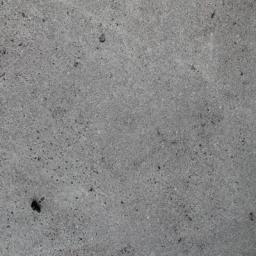FOD: (29, 199, 45, 216)
